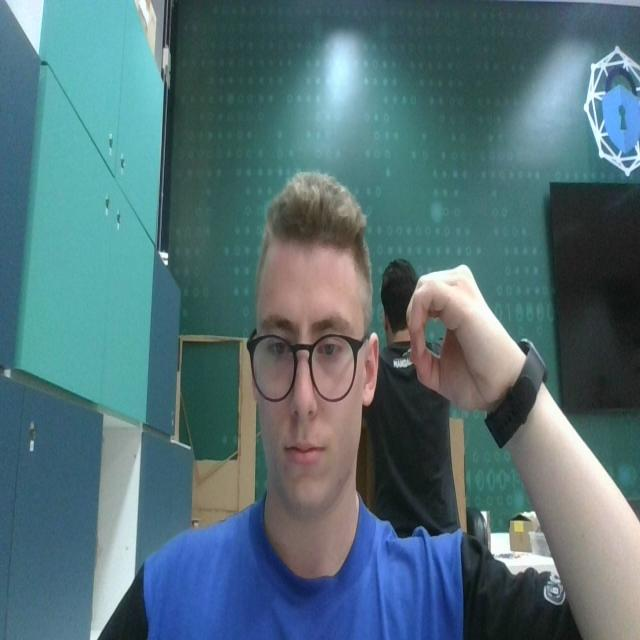O: (405, 251, 504, 416)
